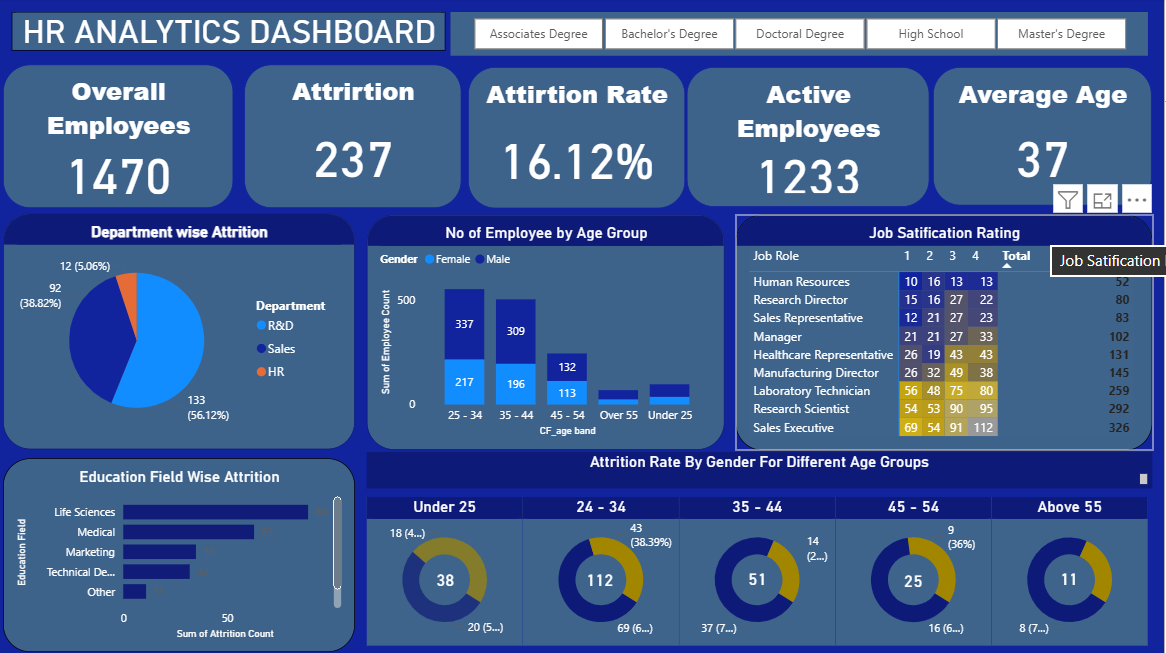

This screenshot's page, from the dashboard's own definition file:
{"tool":"powerbi","page":{"name":"Page 1","canvas":[1280,720],"ordinal":0},"visuals":[{"type":"card","title":"Overall Employees","fields":{"Values":["Sum(HR data.Employee Count)"]},"box":[5.7,74.6,252.4,157.8],"z":0},{"type":"card","title":"Attrirtion","fields":{"Values":["Sum(HR data.Attrition Count)"]},"box":[269.7,74.6,238.1,157.8],"z":1000},{"type":"card","title":"Attirtion Rate","fields":{"Values":["HR data.Attirtion Rate"]},"box":[516.4,77.5,238.1,154.9],"z":2000},{"type":"card","title":"Active Employees","fields":{"Values":["HR data.Active Employees"]},"box":[756.1,76.8,266.2,153.7],"z":3000},{"type":"card","title":"Average Age","fields":{"Values":["Avg(HR data.Age)"]},"box":[1026.4,76.8,240.1,152.3],"z":4000},{"type":"pieChart","title":"Department wise Attrition","fields":{"Category":["HR data.Department"],"Y":["Sum(HR data.Attrition Count)"]},"box":[6,237.7,386.1,259.4],"z":5000},{"type":"columnChart","title":"No of Employee by Age Group","fields":{"Category":["HR data.CF_age band"],"Y":["Sum(HR data.Employee Count)"],"Series":["HR data.Gender"]},"box":[404.5,238.1,393,258.2],"z":6000},{"type":"pivotTable","title":"Job Satification Rating","fields":{"Rows":["HR data.Job Role"],"Columns":["HR data.Job Satisfaction"],"Values":["Sum(HR data.Employee Count)"]},"box":[810.2,239,457.6,259.4],"z":7000},{"type":"barChart","title":"Education Field Wise Attrition","fields":{"Category":["HR data.Education Field"],"Y":["Sum(HR data.Attrition Count)"]},"box":[6,507,386,213],"z":8000},{"type":"donutChart","title":"Under 25","fields":{"Category":["HR data.Gender"],"Y":["Sum(HR data.Attrition Count)"],"Series":["HR data.CF_age band"]},"box":[405.4,548.9,171.3,162.9],"z":9000},{"type":"textbox","title":"Attrition Rate By Gender For Different Age Groups","box":[405,500.1,862.2,39.9],"z":10000},{"type":"donutChart","title":"24 - 34","fields":{"Category":["HR data.Gender"],"Y":["Sum(HR data.Attrition Count)"],"Series":["HR data.CF_age band"]},"box":[576.7,548.9,171.3,162.9],"z":11000},{"type":"donutChart","title":"35 - 44","fields":{"Category":["HR data.Gender"],"Y":["Sum(HR data.Attrition Count)"],"Series":["HR data.CF_age band"]},"box":[748,548.9,171.3,162.9],"z":12000},{"type":"donutChart","title":"45 - 54","fields":{"Category":["HR data.Gender"],"Y":["Sum(HR data.Attrition Count)"],"Series":["HR data.CF_age band"]},"box":[919.3,548.9,171.3,162.9],"z":13000},{"type":"donutChart","title":"Above 55","fields":{"Category":["HR data.Gender"],"Y":["Sum(HR data.Attrition Count)"],"Series":["HR data.CF_age band"]},"box":[1090.6,548.9,171.3,162.9],"z":14000},{"type":"card","fields":{"Values":["Sum(HR data.Attrition Count)"]},"box":[470.7,625.7,41.2,30.2],"z":15000},{"type":"card","fields":{"Values":["Sum(HR data.Attrition Count)"]},"box":[639.5,625.7,42.5,30.2],"z":16000},{"type":"card","fields":{"Values":["Sum(HR data.Attrition Count)"]},"box":[813.7,621.6,39.8,37],"z":17000},{"type":"card","fields":{"Values":["Sum(HR data.Attrition Count)"]},"box":[983.9,627.1,42.5,28.8],"z":18000},{"type":"card","fields":{"Values":["Sum(HR data.Attrition Count)"]},"box":[1155.4,623,41.2,32.9],"z":19000},{"type":"textbox","title":"HR ANALYTICS DASHBOARD","box":[15.1,16.5,476.2,42.5],"z":20000},{"type":"slicer","fields":{"Values":["HR data.Education"]},"box":[496.7,16.5,765.7,48],"z":21000}]}

Visuals, with their boxes in screenshot pixels (x1, y1, x2, y2), scaled from the page's 1280x720 canvas onto the 1166x653 screenshot:
"Overall Employees" card: box=[5, 68, 235, 211]
"Attrirtion" card: box=[246, 68, 463, 211]
"Attirtion Rate" card: box=[470, 70, 687, 211]
"Active Employees" card: box=[689, 70, 931, 209]
"Average Age" card: box=[935, 70, 1154, 208]
"Department wise Attrition" pieChart: box=[5, 216, 357, 451]
"No of Employee by Age Group" columnChart: box=[368, 216, 726, 450]
"Job Satification Rating" pivotTable: box=[738, 217, 1155, 452]
"Education Field Wise Attrition" barChart: box=[5, 460, 357, 652]
"Under 25" donutChart: box=[369, 498, 525, 646]
"Attrition Rate By Gender For Different Age Groups" textbox: box=[369, 454, 1154, 490]
"24 - 34" donutChart: box=[525, 498, 681, 646]
"35 - 44" donutChart: box=[681, 498, 837, 646]
"45 - 54" donutChart: box=[837, 498, 993, 646]
"Above 55" donutChart: box=[993, 498, 1150, 646]
card - Sum(HR data.Attrition Count): box=[429, 567, 466, 595]
card - Sum(HR data.Attrition Count): box=[583, 567, 621, 595]
card - Sum(HR data.Attrition Count): box=[741, 564, 777, 597]
card - Sum(HR data.Attrition Count): box=[896, 569, 935, 595]
card - Sum(HR data.Attrition Count): box=[1052, 565, 1090, 595]
"HR ANALYTICS DASHBOARD" textbox: box=[14, 15, 448, 54]
slicer - HR data.Education: box=[452, 15, 1150, 58]
